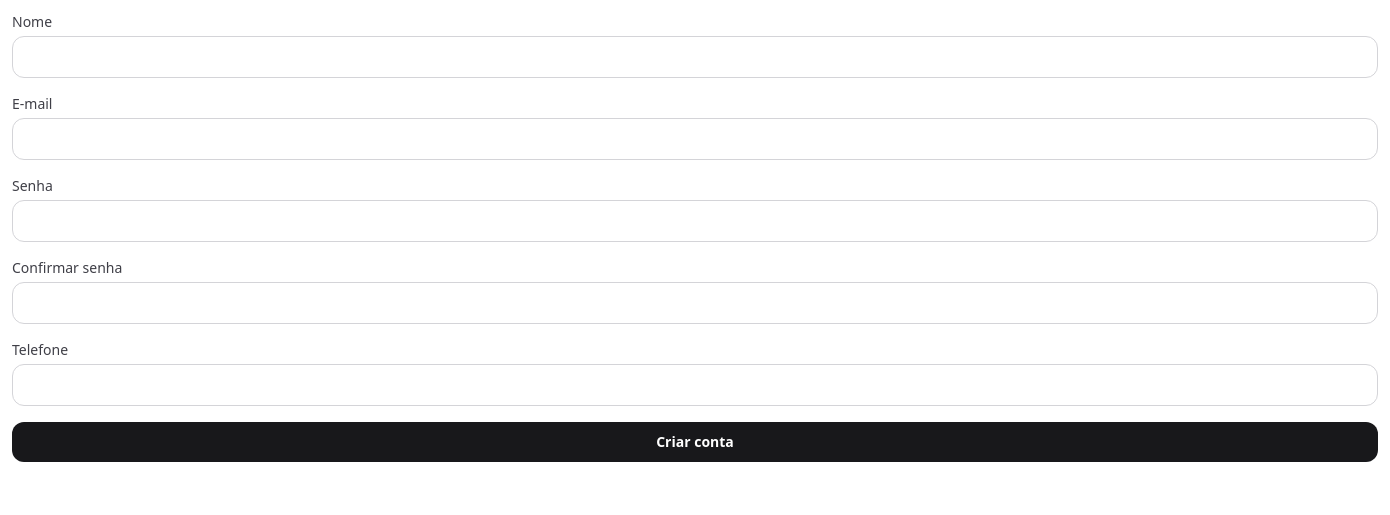
Test: SignupForm — Firebase error messages › email-already-in-use shows Este e-mail já está em uso.
This screenshot has width=1390, height=515.
In the field labelled "Nome": (695, 57) [12,36,1378,78], type "João Silva"
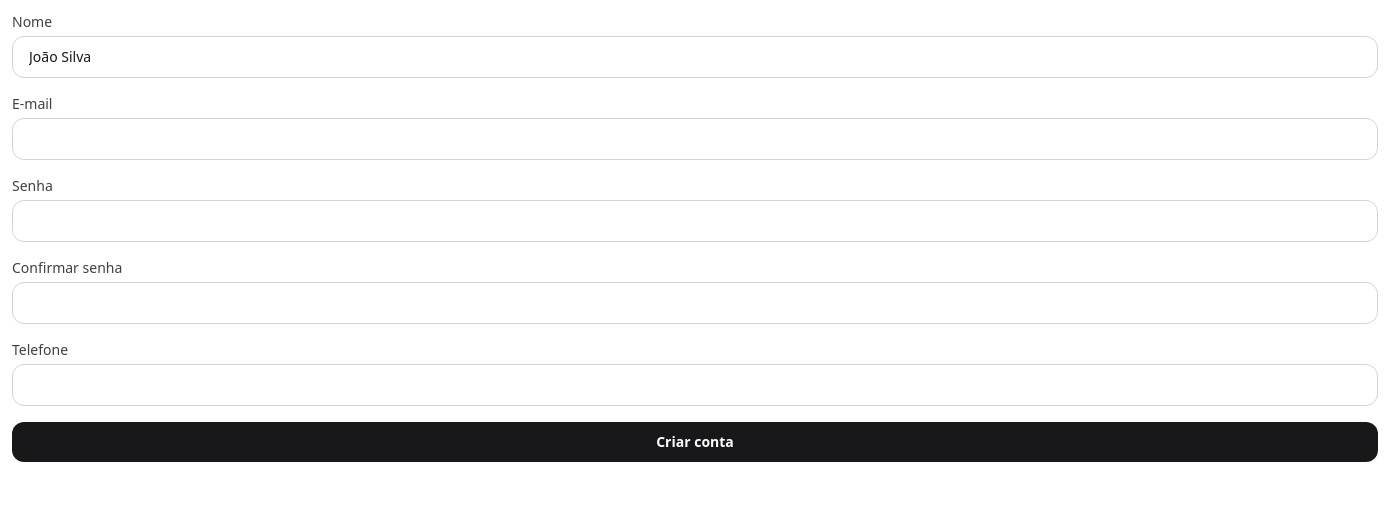
In the field labelled "E-mail": (695, 139) [12,118,1378,160], type "joao@test.com"
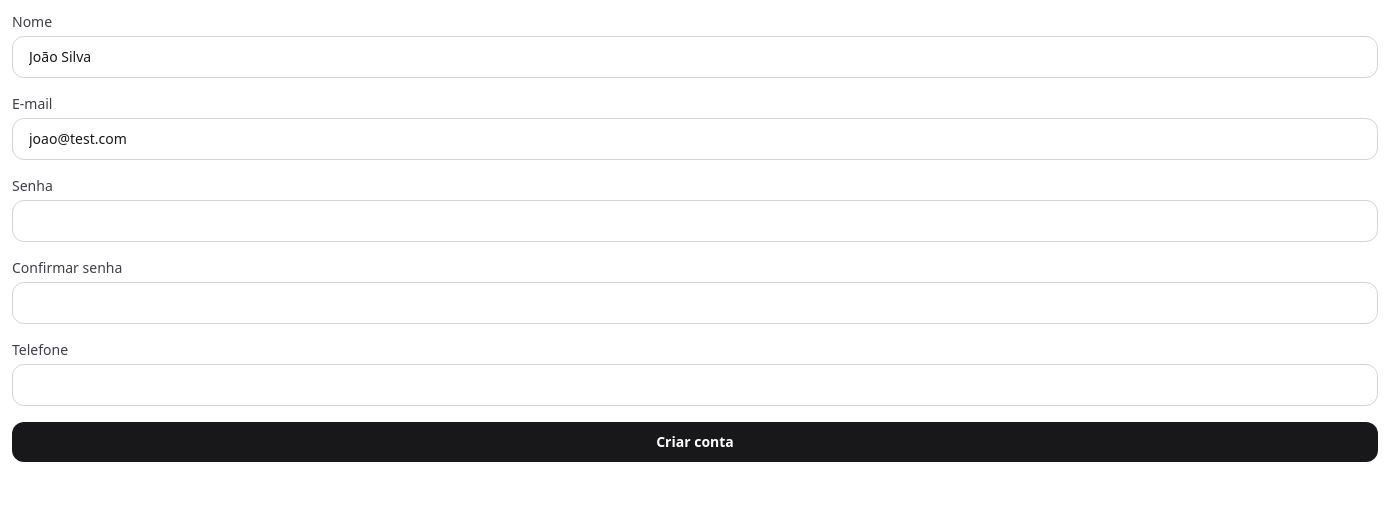
In the password field labelled "Senha": (695, 221) [12,200,1378,242], type "pass123"
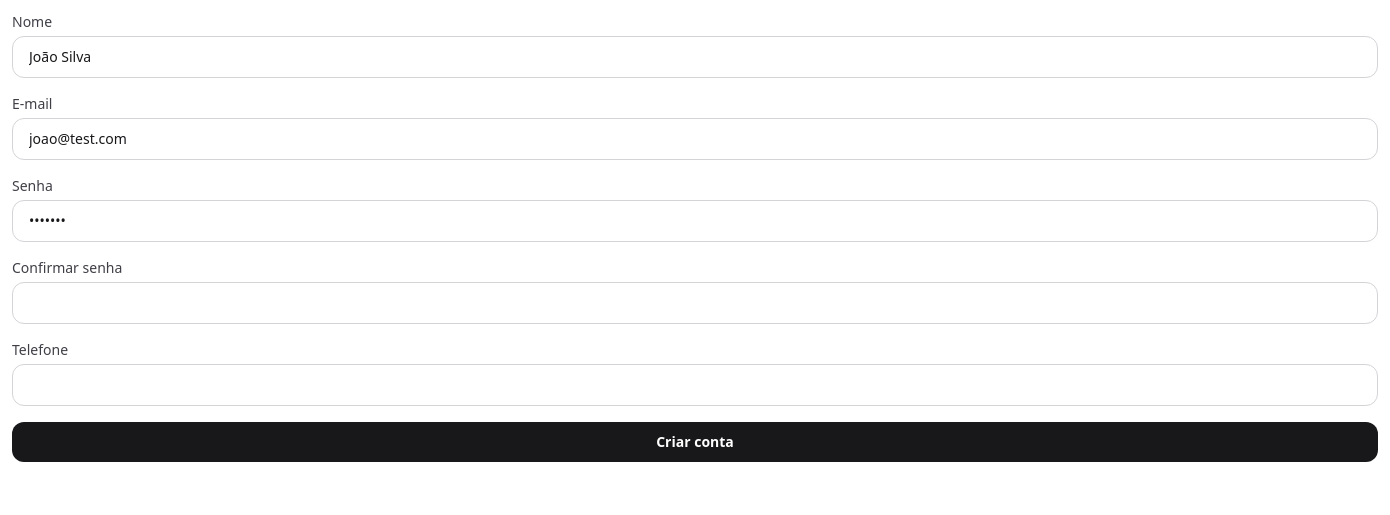
In the password field labelled "Confirmar senha": (695, 303) [12,282,1378,324], type "pass123"
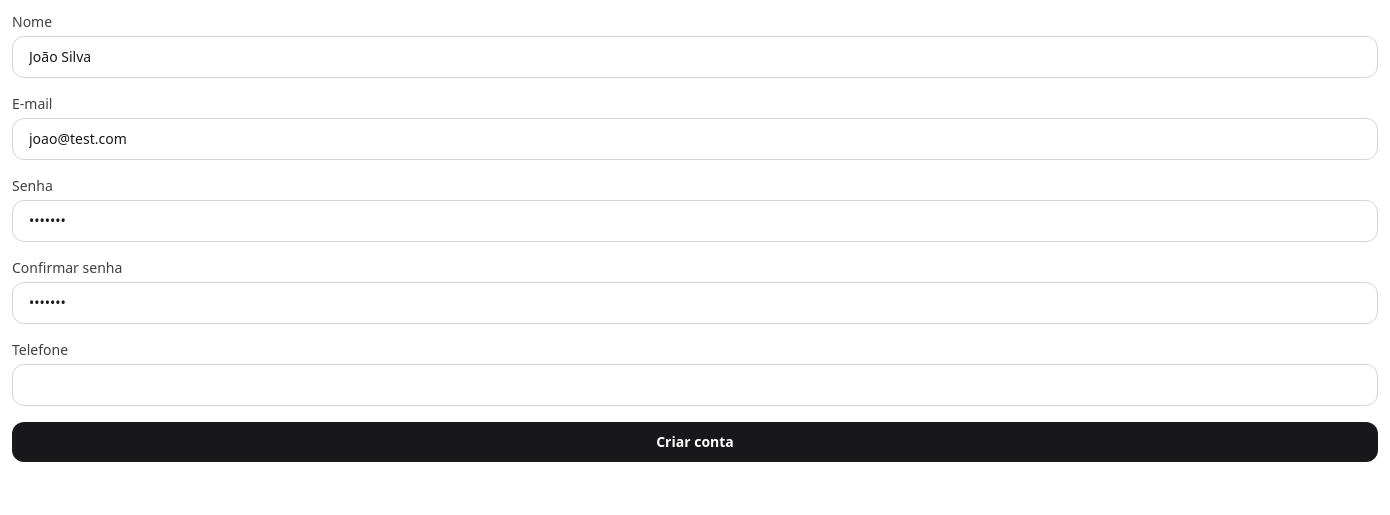
Click the button "Criar conta": (695, 442) [12,422,1378,462]
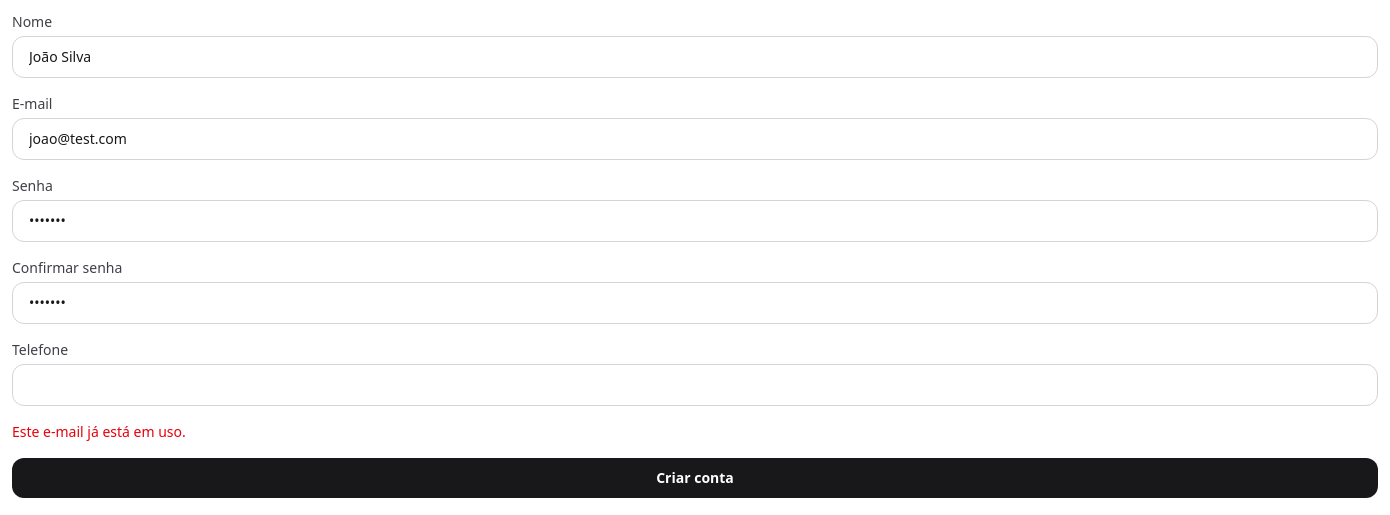
Result: the message reads "Este e-mail já está em uso." at [12,422,186,441]
